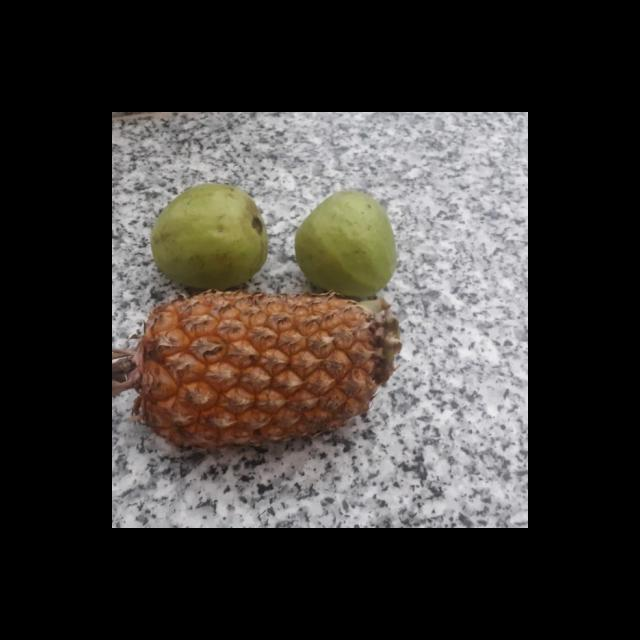guava: (152, 185, 272, 286), (294, 192, 403, 298)
pineapple: (120, 286, 398, 450)
